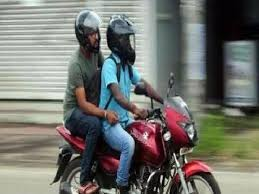helmet: (104, 13, 144, 67), (73, 10, 103, 59)
